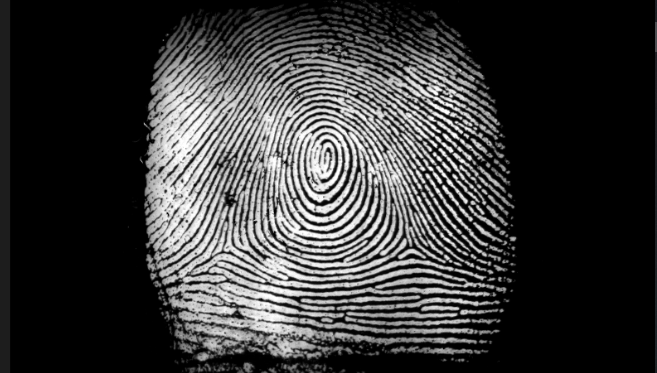deltas: (384, 218, 443, 270), (202, 217, 253, 271)
nucleo: (303, 128, 353, 185)
